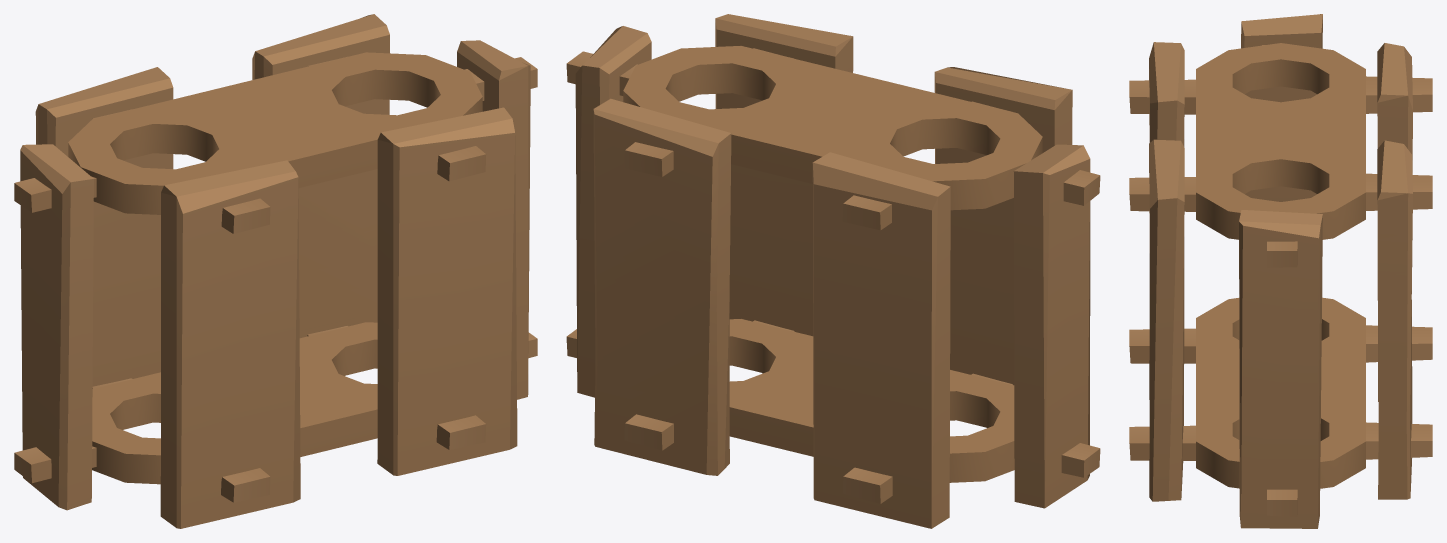
File: BlacksmithTool_D.fbx
3 views of the same model, side by side, from view 1: azimuth 30°, elevation 25°; view 2: azimuth 150°, elevation 25°; view 3: azimuth 270°, elevation 25° (orthographic). The views are drawn at different scales.
Parts seen in each view (by area): view 1: BlacksmithTool_D; view 2: BlacksmithTool_D; view 3: BlacksmithTool_D.
Boxes of the visible parts, x1=… form: BlacksmithTool_D: x1=14, y1=14, x2=537, y2=528; BlacksmithTool_D: x1=566, y1=14, x2=1100, y2=528; BlacksmithTool_D: x1=1129, y1=14, x2=1432, y2=528.
Size of the model in its own units: 106 by 66.11 by 59.31.
